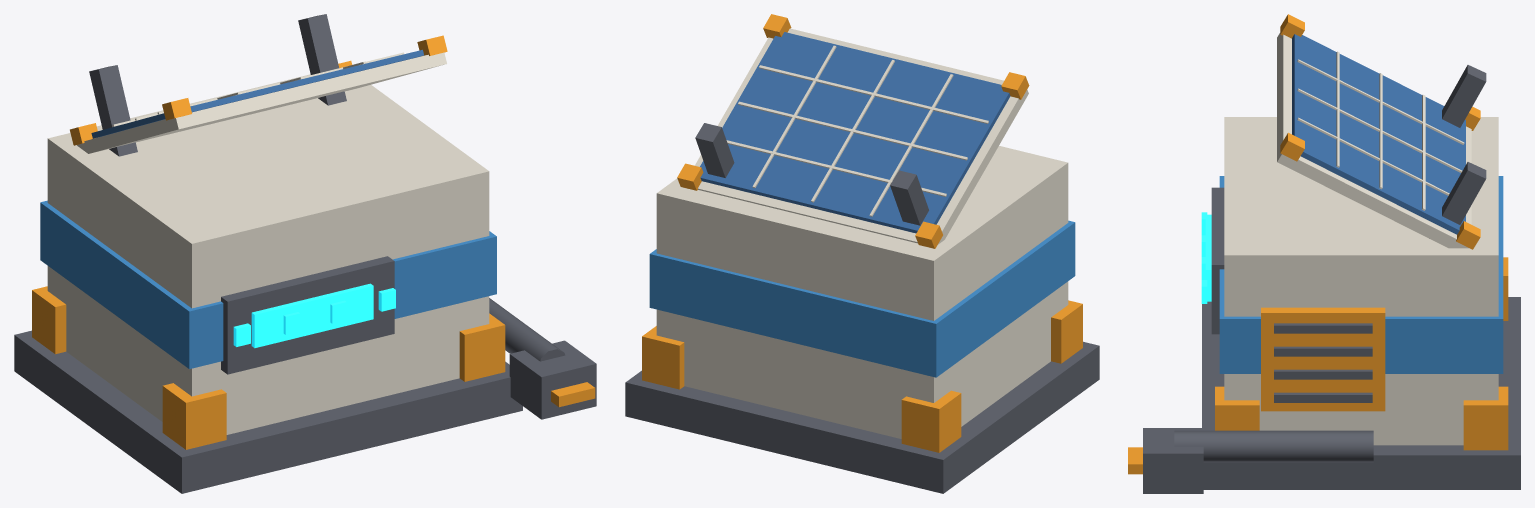
Rendered from model_solar_farm.glb.
3 renders of one model, left to right at view 1: azimuth 30°, elevation 25°; view 2: azimuth 150°, elevation 25°; view 3: azimuth 270°, elevation 25°, orthographic. The views are drawn at different scales.
Visible parts, largest first — view 1: storage_tank, foundation, blue_band, front_screen_frame, panel_back_0_0, cable_plug, front_screen, corner_guard_-0.96_0.78, corner_guard_0.96_0.78, panel_cells_0_0, panel_leg_left, panel_leg_right (+3 smaller); view 2: storage_tank, panel_cells_0_0, blue_band, foundation, panel_back_0_0, corner_guard_-0.96_-0.78, corner_guard_0.96_-0.78, corner_guard_-0.96_0.78, panel_leg_left, panel_leg_right, cell_line_z_0_0_0, cell_line_z_0_0_0.25 (+7 smaller); view 3: storage_tank, panel_cells_0_0, foundation, blue_band, side_vent, power_cable, panel_back_0_0, cable_plug, corner_guard_0.96_-0.78, front_screen_frame, corner_guard_0.96_0.78, panel_leg_left (+15 smaller).
Part boxes in pixels (x1,y1,x2,y2): storage_tank: (47, 74, 489, 434); foundation: (14, 330, 522, 493); blue_band: (40, 200, 496, 368); front_screen_frame: (221, 256, 394, 374); panel_back_0_0: (77, 52, 446, 153); cable_plug: (509, 340, 596, 419); front_screen: (251, 283, 373, 348); corner_guard_-0.96_0.78: (162, 383, 226, 449); corner_guard_0.96_0.78: (459, 313, 505, 381); panel_cells_0_0: (91, 49, 423, 138); panel_leg_left: (89, 65, 137, 156); panel_leg_right: (298, 14, 346, 105); storage_tank: (656, 146, 1068, 438); panel_cells_0_0: (700, 32, 1010, 233); blue_band: (649, 220, 1075, 377); foundation: (625, 341, 1099, 493); panel_back_0_0: (695, 28, 1028, 244); corner_guard_-0.96_-0.78: (901, 390, 961, 452); corner_guard_0.96_-0.78: (642, 326, 684, 389); corner_guard_-0.96_0.78: (1051, 300, 1082, 363); panel_leg_left: (890, 170, 928, 225); panel_leg_right: (695, 123, 734, 177); cell_line_z_0_0_0: (738, 101, 967, 160); cell_line_z_0_0_0.25: (759, 65, 988, 123); storage_tank: (1224, 117, 1498, 445); panel_cells_0_0: (1292, 34, 1465, 234); foundation: (1202, 297, 1520, 489); blue_band: (1219, 176, 1503, 373); side_vent: (1261, 307, 1385, 411); power_cable: (1174, 430, 1373, 462); panel_back_0_0: (1277, 33, 1471, 248); cable_plug: (1143, 428, 1203, 493); corner_guard_0.96_-0.78: (1463, 386, 1508, 450); front_screen_frame: (1211, 187, 1224, 334); corner_guard_0.96_0.78: (1215, 386, 1259, 430); panel_leg_left: (1442, 65, 1486, 127).
Size of the model in its own units: 2.65 by 2.31 by 2.46.
